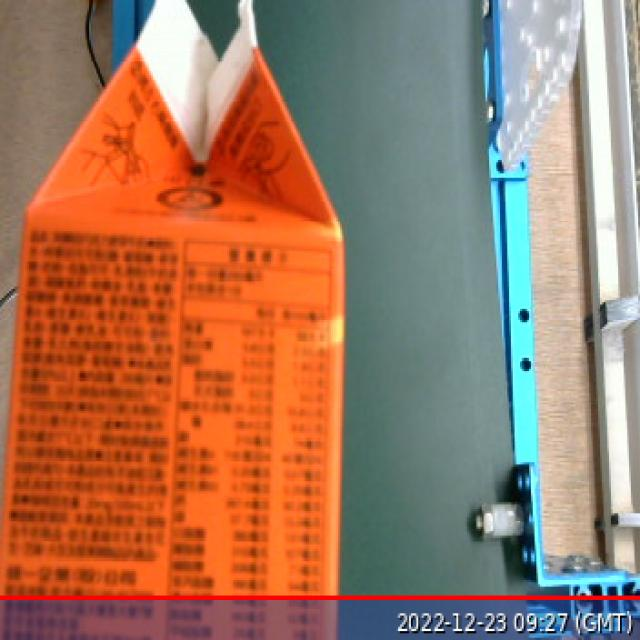non_white_jug: (0, 0, 353, 637)
